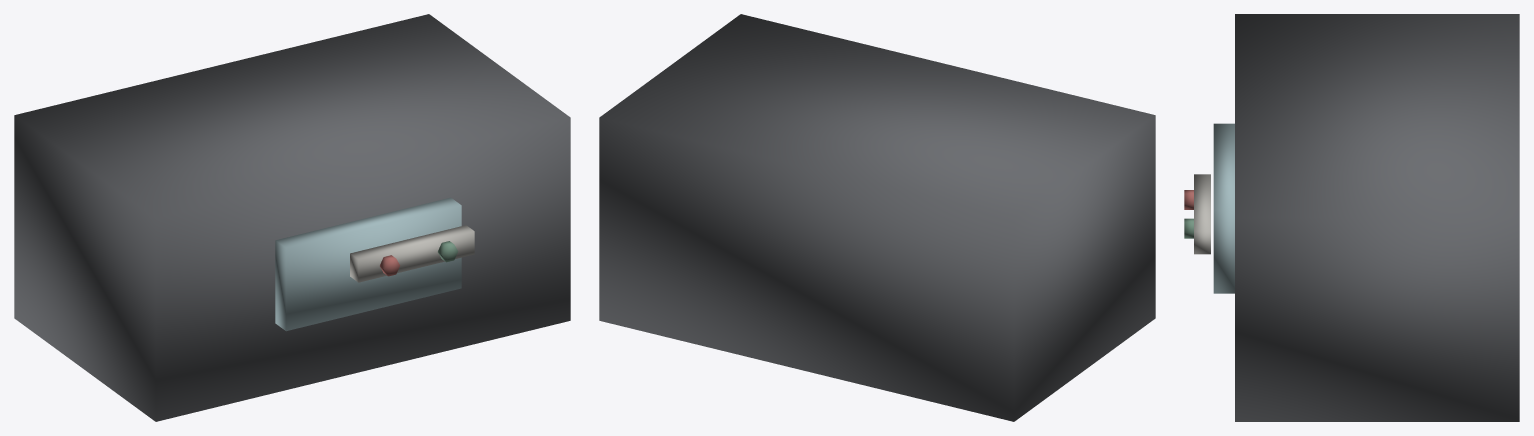
Rendered from cassette_deck__compact.glb.
3 views of the same model, side by side, from view 1: azimuth 30°, elevation 25°; view 2: azimuth 150°, elevation 25°; view 3: azimuth 270°, elevation 25° (orthographic).
Visible parts, largest first — view 1: world; view 2: world; view 3: world.
Part boxes in pixels (<box>): world: <box>14,14,570,421</box>; world: <box>599,14,1155,421</box>; world: <box>1184,14,1519,421</box>.
Size of the model in its own units: 0.4368 by 0.2046 by 0.304.
